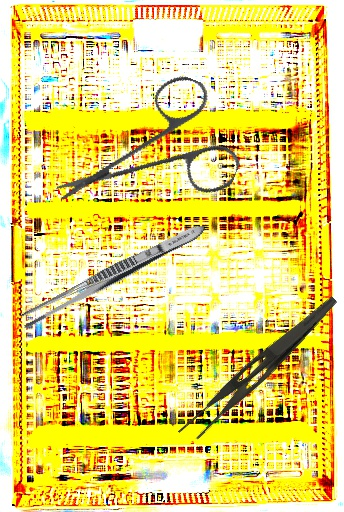Dressing Forceps: (175, 279, 339, 453), (17, 217, 209, 333)
Iris Scissors: (53, 47, 263, 256)
